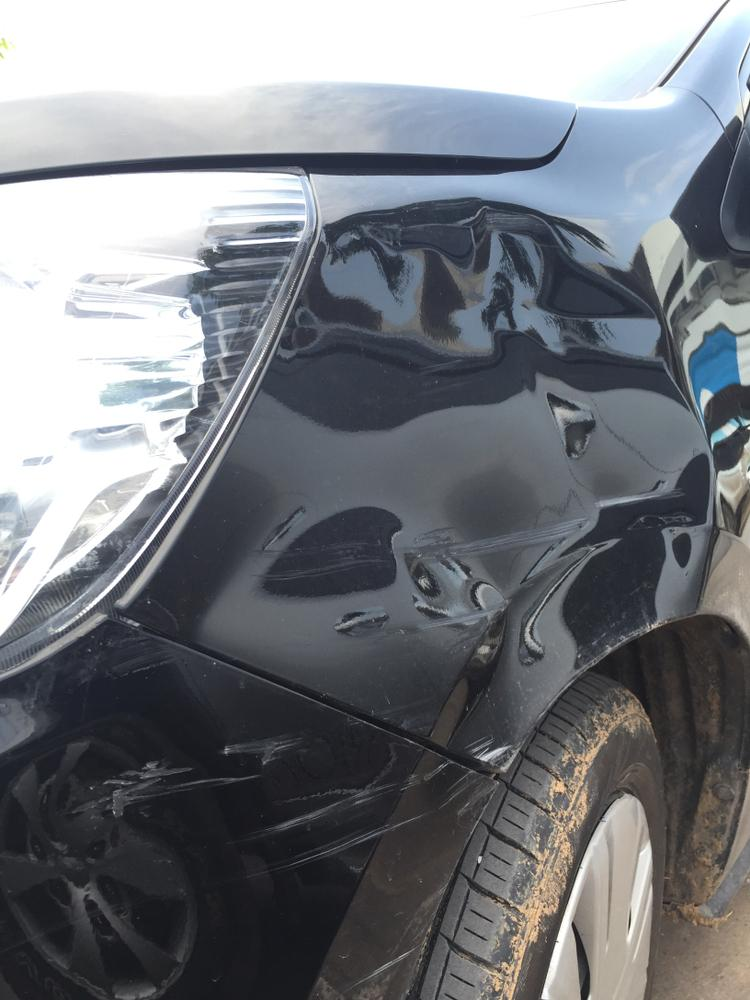dent: (119, 199, 717, 774)
scratch: (59, 719, 494, 884)
